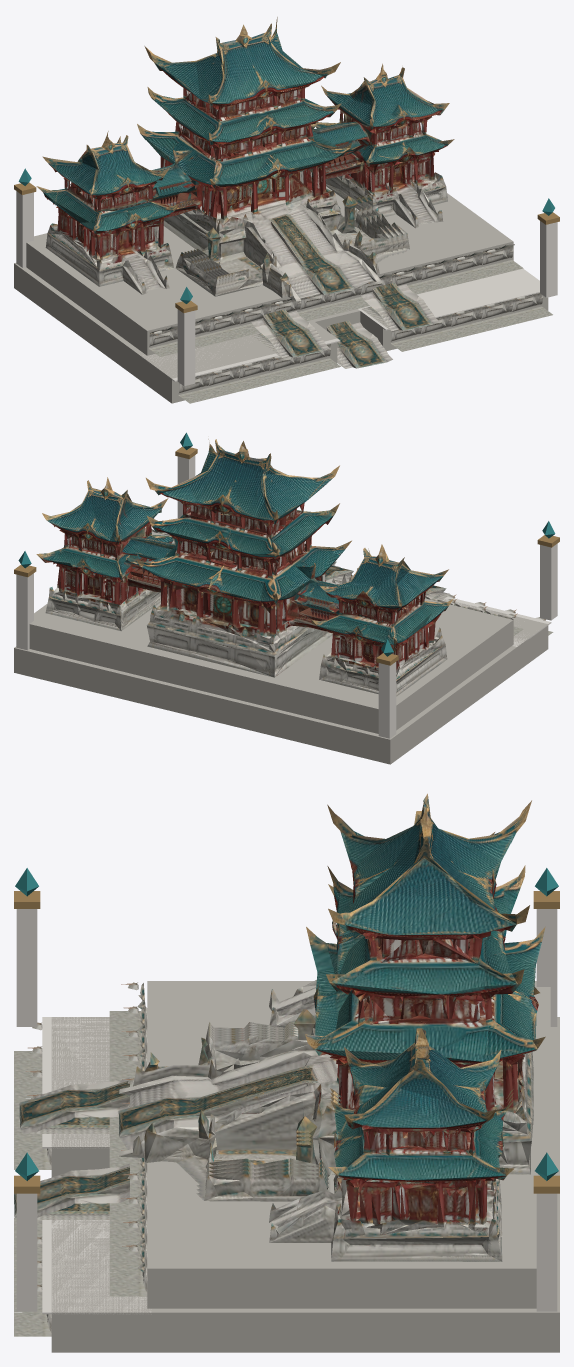
The model's file is scripture_L06_rework_prototype.glb.
3 renders of one model, top to bottom at view 1: azimuth 30°, elevation 25°; view 2: azimuth 150°, elevation 25°; view 3: azimuth 270°, elevation 25°, orthographic. The views are drawn at different scales.
Parts seen in each view (by area): view 1: L6_centre, terrace_bodies, L6_wing_left, L6_wing_right, corner_pillars, terrace_apron, flight_branch_right, flight_branch_left, flight_central, plinth_t2_2, plinth_t2_9, gallery_slice_1 (+20 smaller); view 2: terrace_bodies, L6_centre, L6_wing_left, L6_wing_right, corner_pillars, pillar_rings, pillar_jade_caps, terrace_apron; view 3: terrace_bodies, L6_centre, L6_wing_right, corner_pillars, terrace_apron, flight_branch_left, flight_branch_right, pillar_rings, L6_wing_left, gallery_slice_-1, pillar_jade_caps, plinth_t2_11 (+14 smaller).
Boxes of the visible parts, left/top/right/bottom form: L6_centre: left=137, top=17, right=390, bottom=301; terrace_bodies: left=14, top=186, right=548, bottom=403; L6_wing_left: left=36, top=131, right=219, bottom=296; L6_wing_right: left=315, top=63, right=454, bottom=251; corner_pillars: left=16, top=191, right=557, bottom=386; terrace_apron: left=141, top=268, right=539, bottom=381; flight_branch_right: left=361, top=283, right=439, bottom=330; flight_branch_left: left=251, top=309, right=329, bottom=357; flight_central: left=326, top=321, right=392, bottom=368; plinth_t2_2: left=209, top=311, right=250, bottom=342; plinth_t2_9: left=422, top=259, right=462, bottom=290; gallery_slice_1: left=319, top=128, right=392, bottom=254; terrace_bodies: left=14, top=532, right=548, bottom=764; L6_centre: left=136, top=439, right=357, bottom=677; L6_wing_left: left=311, top=544, right=453, bottom=696; L6_wing_right: left=36, top=477, right=173, bottom=630; corner_pillars: left=16, top=455, right=557, bottom=738; pillar_rings: left=14, top=446, right=559, bottom=665; pillar_jade_caps: left=18, top=432, right=555, bottom=656; terrace_apron: left=442, top=596, right=551, bottom=646; terrace_bodies: left=51, top=981, right=559, bottom=1352; L6_centre: left=118, top=793, right=545, bottom=1184; L6_wing_right: left=200, top=1028, right=513, bottom=1261; corner_pillars: left=16, top=909, right=557, bottom=1311; terrace_apron: left=42, top=1017, right=151, bottom=1314; flight_branch_left: left=19, top=1077, right=129, bottom=1133; flight_branch_right: left=37, top=1163, right=129, bottom=1219; pillar_rings: left=14, top=891, right=559, bottom=1193; L6_wing_left: left=204, top=811, right=494, bottom=1049; gallery_slice_-1: left=205, top=1033, right=298, bottom=1062; pillar_jade_caps: left=15, top=868, right=558, bottom=1180; plinth_t2_11: left=109, top=1244, right=147, bottom=1296.
Size of the model in its own units: 7.45 by 4.69 by 5.81.
Materials: 1 (1 with a texture image).
